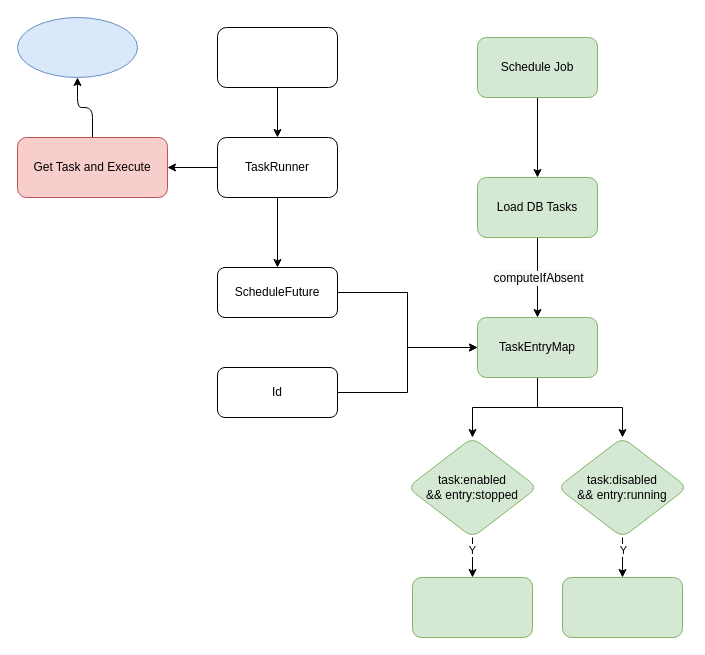
Some shapes in this 705 by 655 pixel diagram are drawn without their labels. Each missing label, with the box of its shape:
re-trigger: (412, 576, 532, 638)
real logic: (16, 16, 138, 78)
stop schedule: (562, 576, 682, 638)
Task:id: (216, 26, 338, 88)
